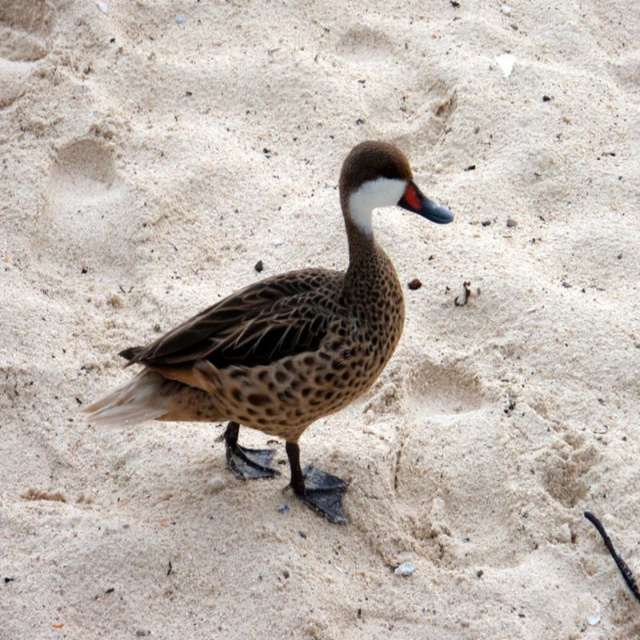Goose: (89, 138, 458, 512)
